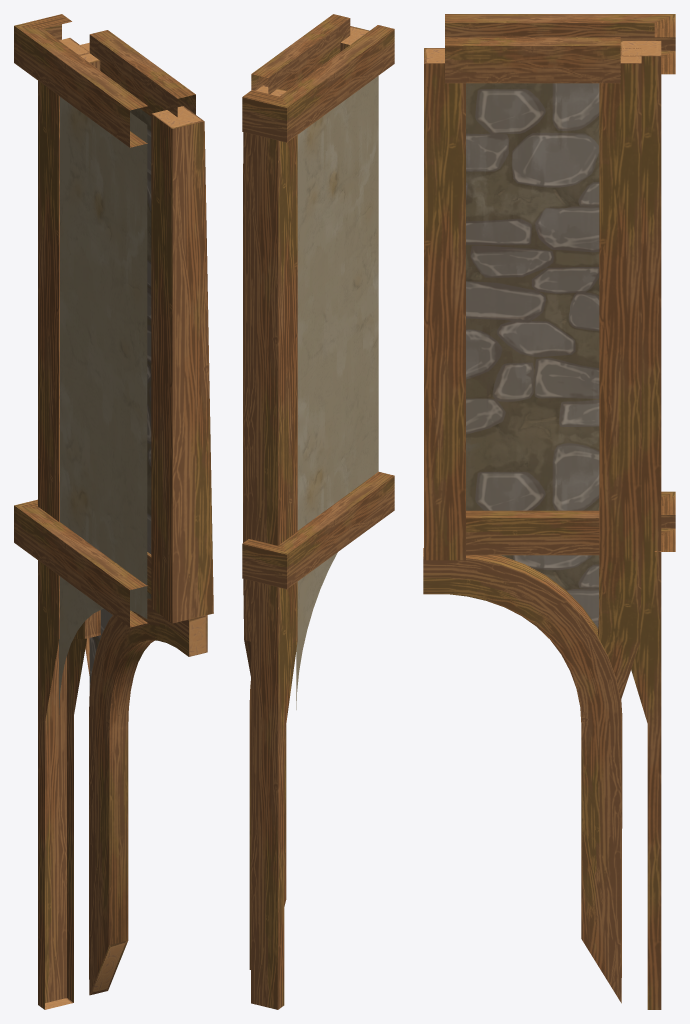
File: overhang_side_uneven_brick_short_r.gltf
3 renders of one model, left to right at view 1: azimuth 30°, elevation 25°; view 2: azimuth 150°, elevation 25°; view 3: azimuth 270°, elevation 25°, orthographic. The views are drawn at different scales.
Parts seen in each view (by area): view 1: Overhang_Side_UnevenBrick_Short_R; view 2: Overhang_Side_UnevenBrick_Short_R; view 3: Overhang_Side_UnevenBrick_Short_R.
Boxes of the visible parts, bbox=[...] form: Overhang_Side_UnevenBrick_Short_R: bbox=[14, 14, 213, 1009]; Overhang_Side_UnevenBrick_Short_R: bbox=[242, 14, 394, 1009]; Overhang_Side_UnevenBrick_Short_R: bbox=[423, 14, 675, 1009].
Size of the model in its own units: 0.4793 by 6.12 by 1.44.
Materials: 3 (3 with a texture image).
